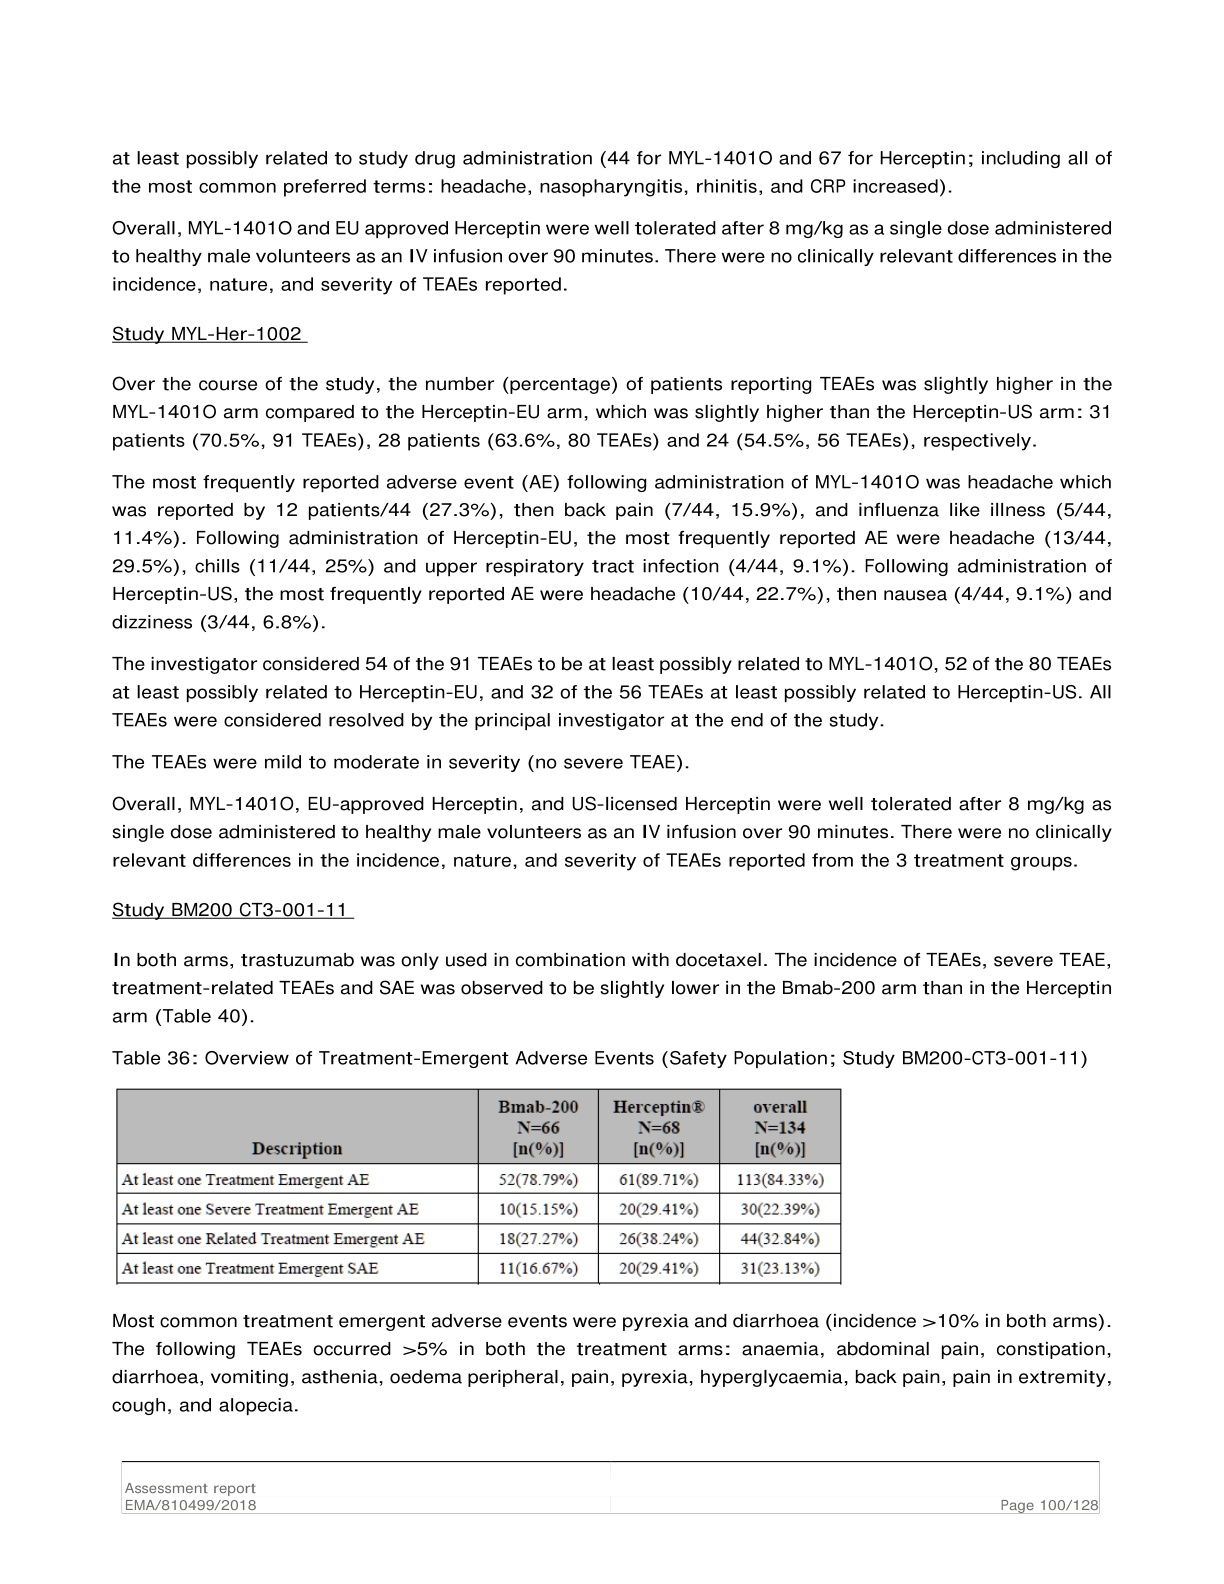full_lined: (116, 1086, 842, 1284)
